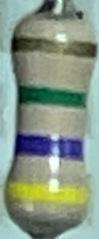Blue: (16, 133, 83, 160)
Green: (18, 86, 86, 108)
Side-Silver: (13, 35, 99, 58)
Yellow: (7, 180, 87, 204)
